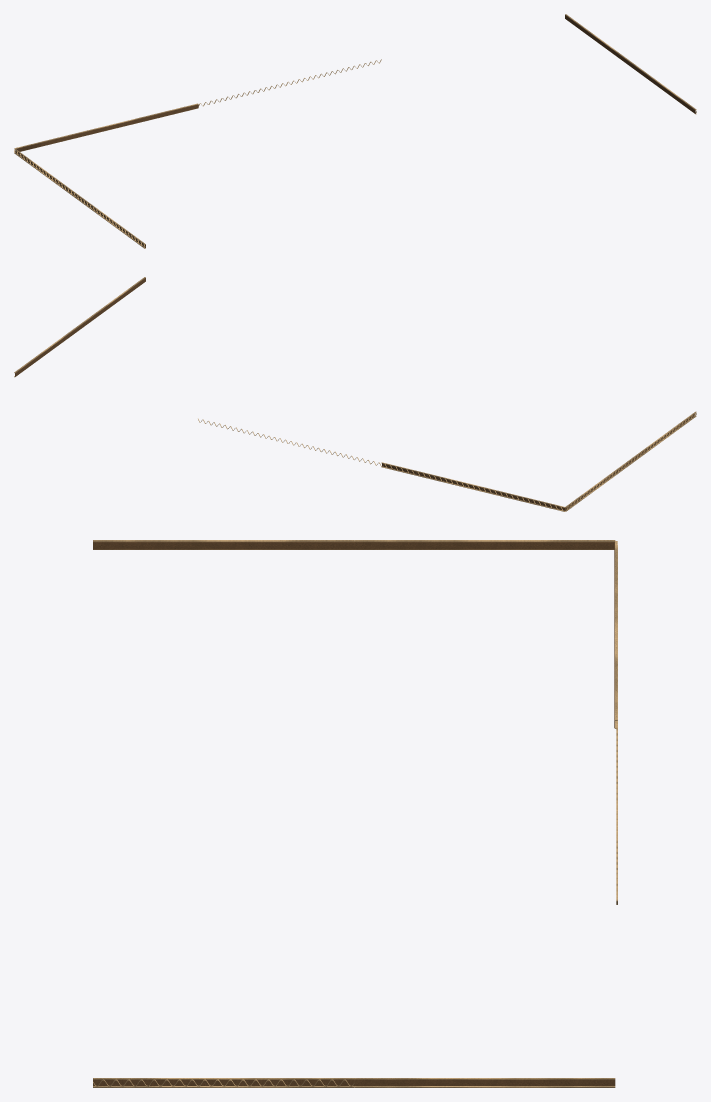
Rendered from 18-corrugated-top-box-cut-edges-2.fbx.
3 renders of one model, top to bottom at view 1: azimuth 30°, elevation 25°; view 2: azimuth 150°, elevation 25°; view 3: azimuth 270°, elevation 25°, orthographic. The views are drawn at different scales.
Parts seen in each view (by area): view 1: corrugated-top-box-cut-edges-2; view 2: corrugated-top-box-cut-edges-2; view 3: corrugated-top-box-cut-edges-2.
Part boxes in pixels (x1,y1,x2,y2): corrugated-top-box-cut-edges-2: (14,14,696,248); corrugated-top-box-cut-edges-2: (14,277,696,511); corrugated-top-box-cut-edges-2: (93,540,617,1087).
Size of the model in its own units: 18072 by 140 by 7436.
Materials: 1 (1 with a texture image).
